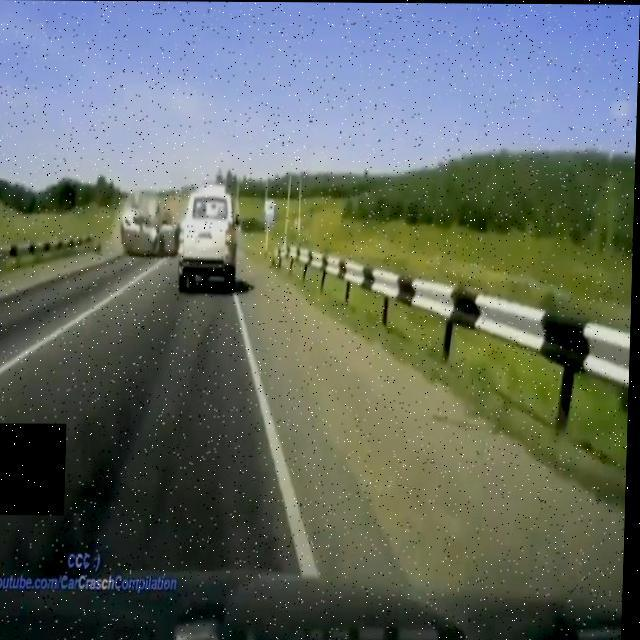normal: (184, 179, 241, 284)
single accident: (111, 180, 197, 267)
